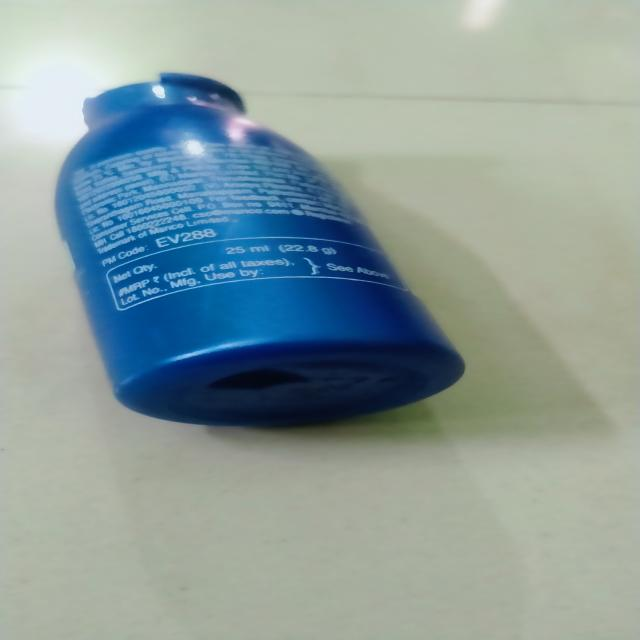oil: (57, 78, 453, 429)
